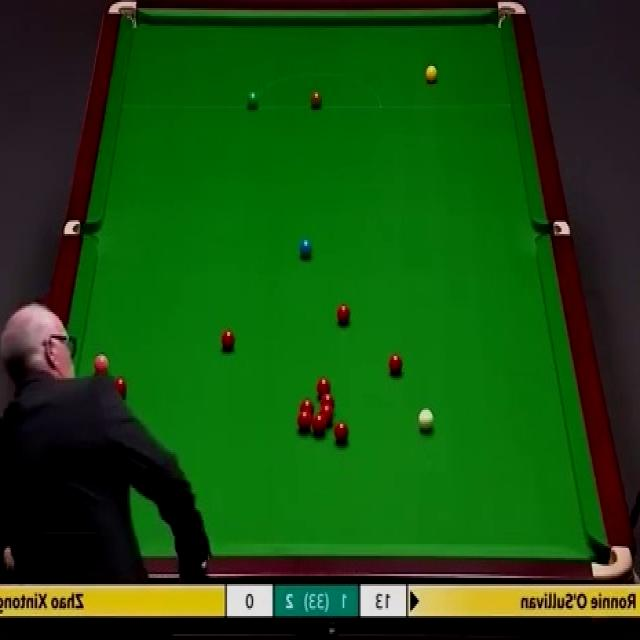pocket: (590, 546, 633, 579), (108, 0, 140, 31), (495, 1, 529, 28), (533, 221, 573, 237), (62, 222, 101, 238)
